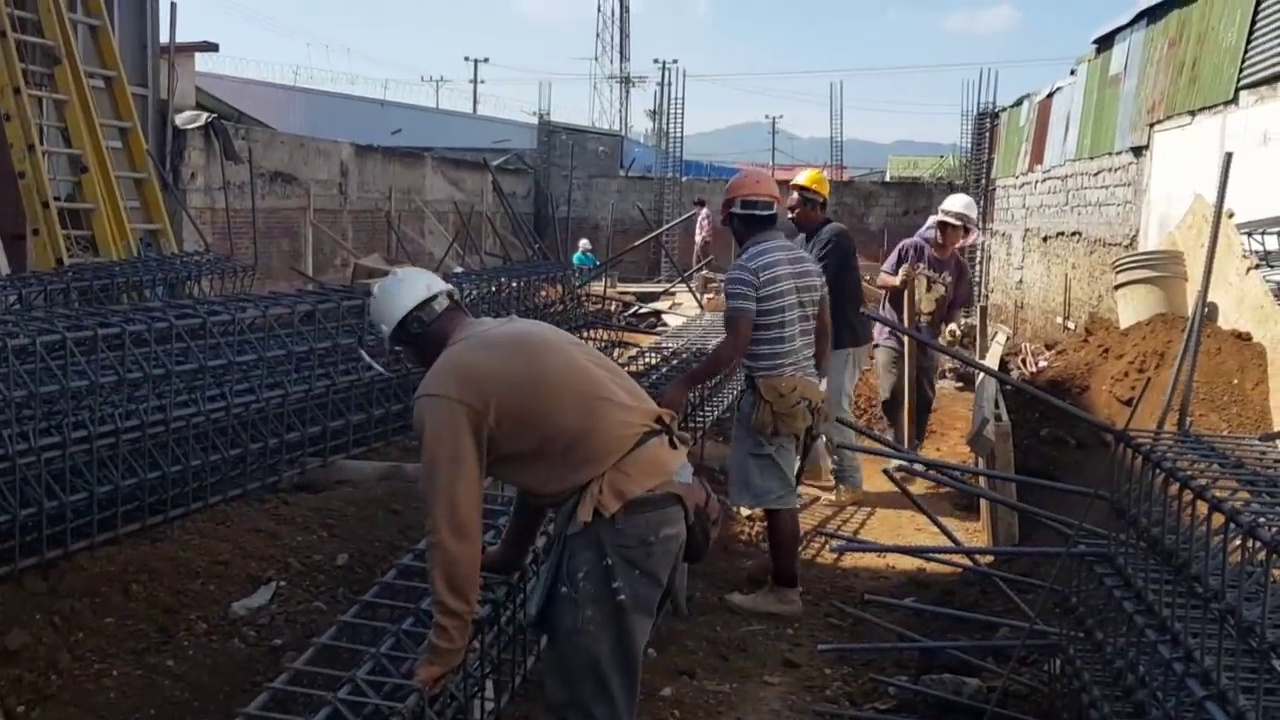helmet: (363, 266, 458, 358), (717, 167, 780, 218), (932, 194, 979, 233), (787, 168, 833, 206), (578, 238, 593, 250)
helmet-off: (693, 195, 706, 214)
helmet-on: (360, 267, 492, 359), (719, 167, 778, 250), (927, 191, 981, 258), (787, 168, 834, 226), (576, 238, 594, 255)
person: (354, 260, 704, 718), (681, 159, 811, 625), (793, 162, 882, 508), (869, 191, 991, 443), (689, 196, 711, 298), (571, 238, 600, 304)
